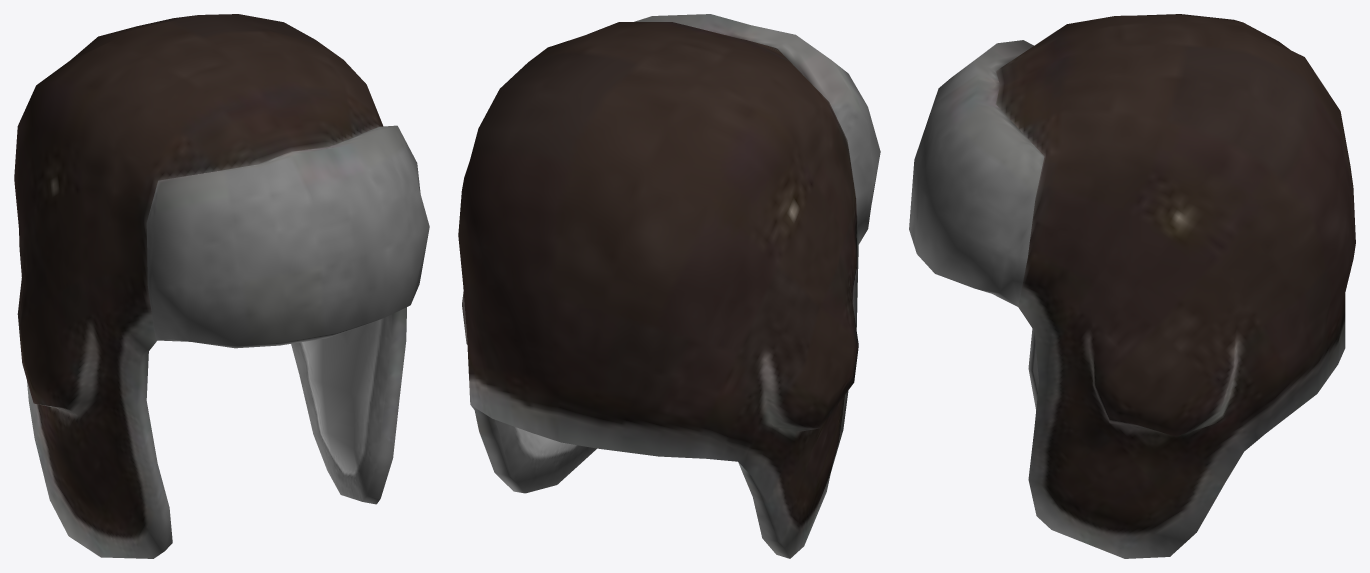
The model's file is ushankahat.glb.
The picture shows the model from 3 angles, left to right: view 1: azimuth 30°, elevation 25°; view 2: azimuth 150°, elevation 25°; view 3: azimuth 270°, elevation 25°; orthographic projection. The views are drawn at different scales.
Visible parts, largest first — view 1: Object_2; view 2: Object_2; view 3: Object_2.
Part boxes in pixels (left/top/right/bottom): Object_2: left=14, top=14, right=429, bottom=558; Object_2: left=458, top=14, right=880, bottom=558; Object_2: left=909, top=14, right=1355, bottom=558.
Bounding box in the file's own units: 32.84 × 42.09 × 37.3.
Materials: 1 (1 with a texture image).
